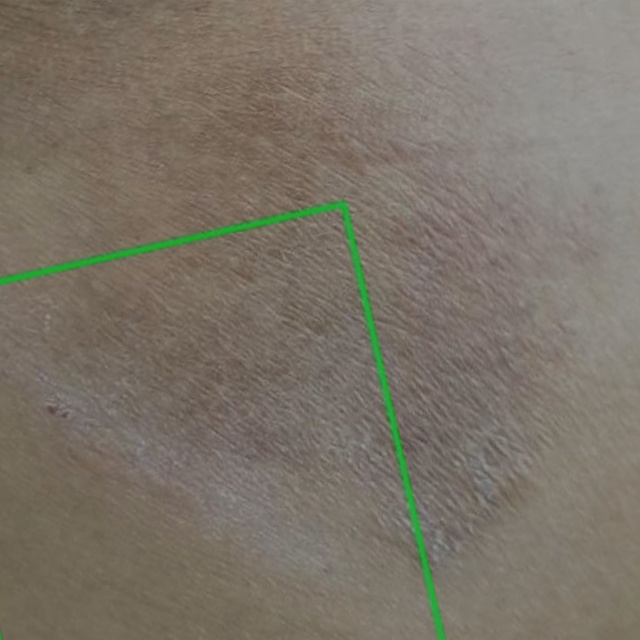Contact Dermatitis: (0, 204, 442, 639)
